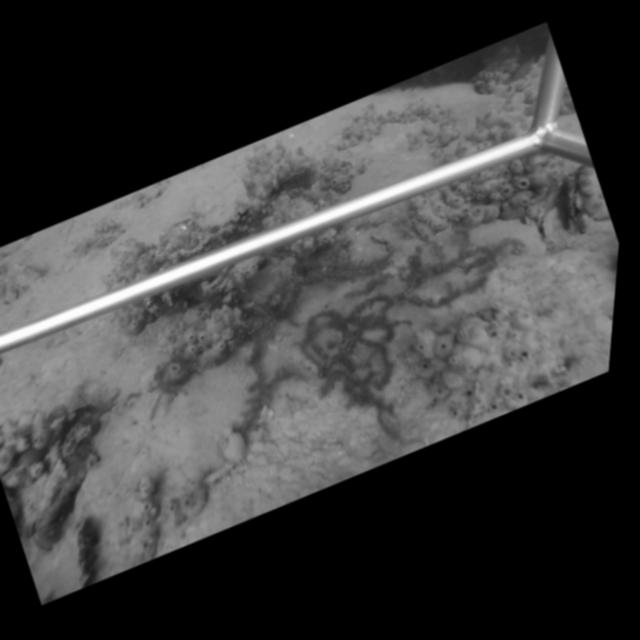Oyster-Indeterminate: (368, 221, 405, 248)
